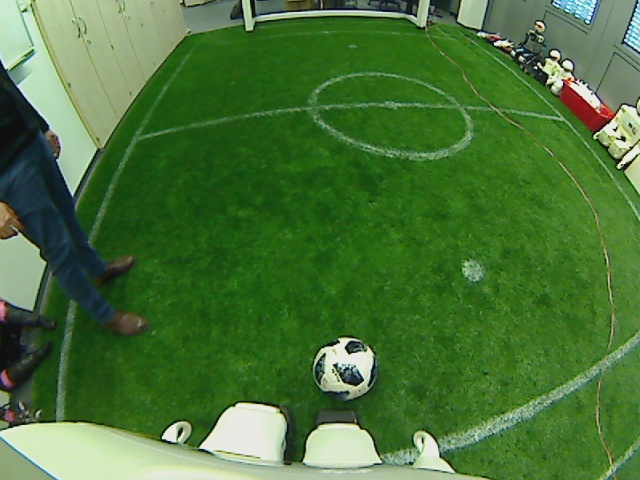ball: (309, 334, 377, 400)
